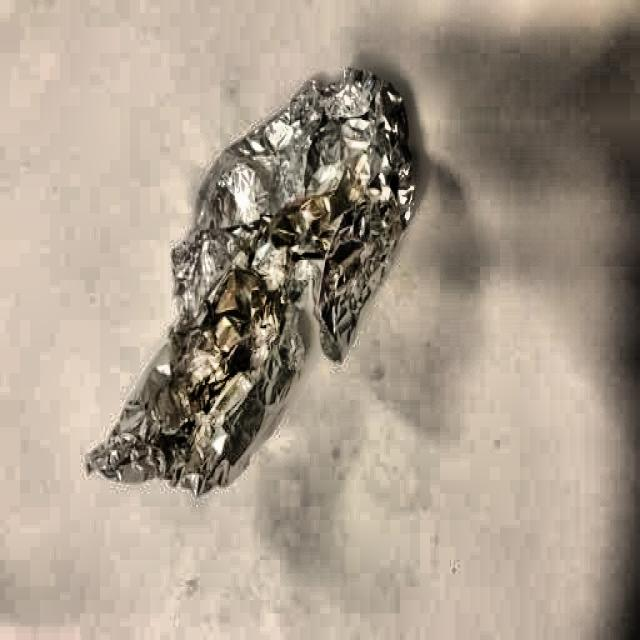metal: (96, 68, 415, 498)
